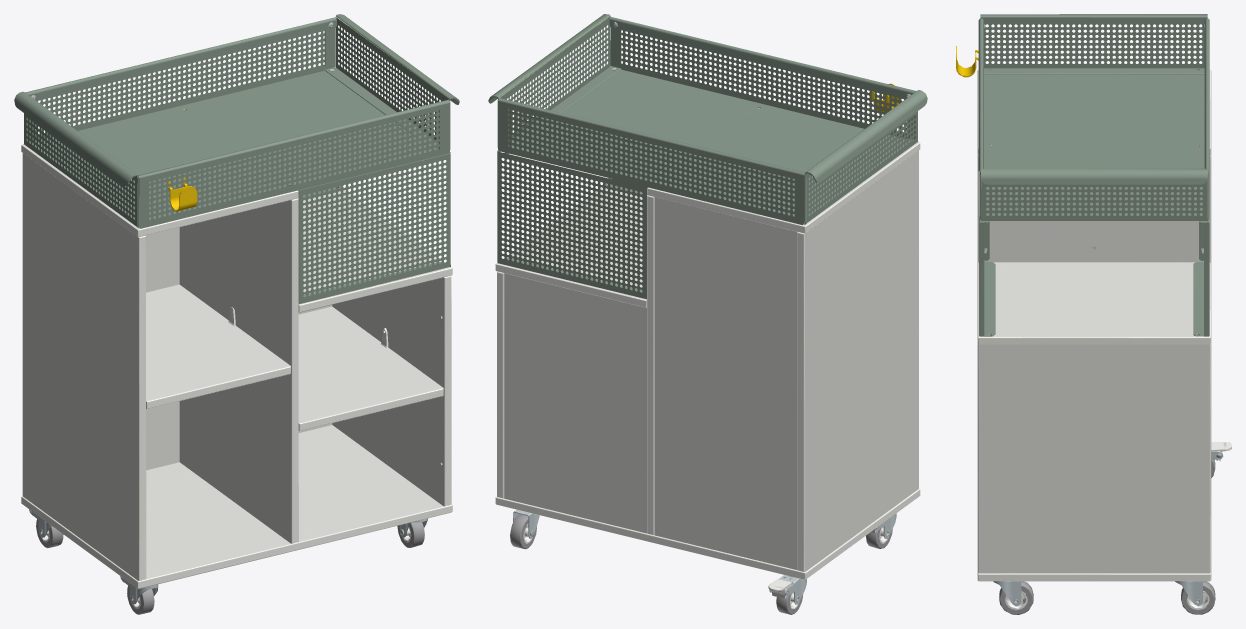
File: ovning_wozek_00517003.glb
3 renders of one model, left to right at view 1: azimuth 30°, elevation 25°; view 2: azimuth 150°, elevation 25°; view 3: azimuth 270°, elevation 25°, orthographic.
Visible parts, largest first — view 1: ovning_wozek_00517003; view 2: ovning_wozek_00517003; view 3: ovning_wozek_00517003.
Boxes of the visible parts, x1,y1,x2,y2 form: ovning_wozek_00517003: [14, 14, 459, 614]; ovning_wozek_00517003: [488, 14, 927, 614]; ovning_wozek_00517003: [956, 14, 1231, 614].
Bounding box in the file's own units: 0.5334 × 0.6968 × 0.3825.
2 materials, 2 textured.
